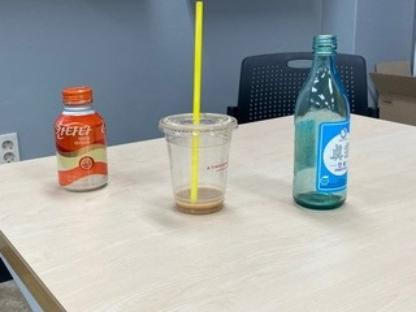Glass Bottle: (292, 33, 350, 209)
Others: (54, 86, 110, 192)
Plastic Cup: (158, 112, 238, 216)
